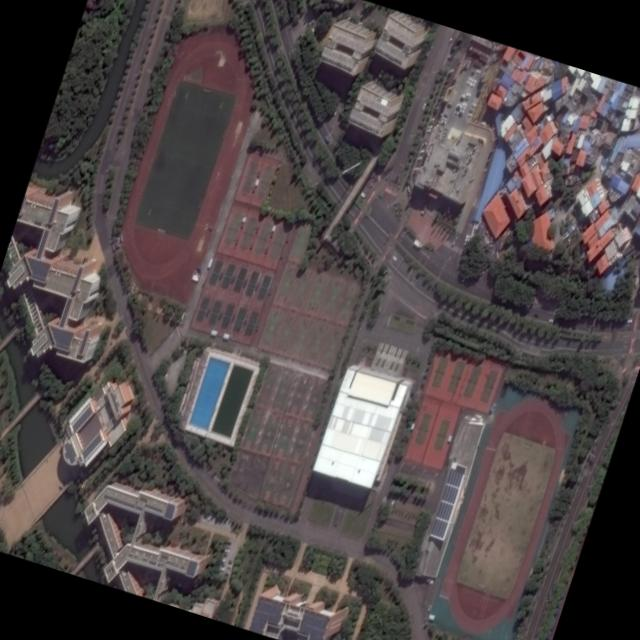small-vehicle: (448, 68, 454, 74), (220, 558, 227, 563), (422, 103, 426, 111), (392, 256, 397, 262), (222, 552, 228, 557), (224, 572, 230, 577), (548, 319, 554, 324), (466, 80, 471, 86), (459, 109, 464, 114), (429, 121, 434, 126), (447, 73, 452, 78), (413, 167, 418, 172), (228, 560, 233, 565), (472, 79, 477, 84), (476, 69, 481, 74), (468, 77, 473, 82), (461, 94, 466, 99), (454, 111, 459, 116), (219, 567, 225, 571), (224, 549, 230, 553), (627, 319, 633, 323), (457, 103, 461, 109), (462, 103, 467, 107), (469, 109, 473, 114), (422, 142, 427, 146), (417, 157, 422, 161), (413, 171, 417, 176), (471, 103, 476, 107), (227, 565, 232, 569), (427, 125, 432, 129), (426, 129, 431, 133), (430, 118, 434, 123), (470, 83, 475, 87), (466, 93, 471, 97), (470, 72, 475, 76), (459, 98, 464, 102), (458, 113, 462, 118), (447, 104, 452, 108), (443, 114, 448, 118), (442, 117, 447, 121), (441, 120, 446, 124), (466, 235, 470, 239), (468, 113, 472, 117), (461, 106, 465, 110), (420, 149, 424, 153), (456, 107, 460, 111), (465, 239, 470, 242), (465, 97, 469, 100)
